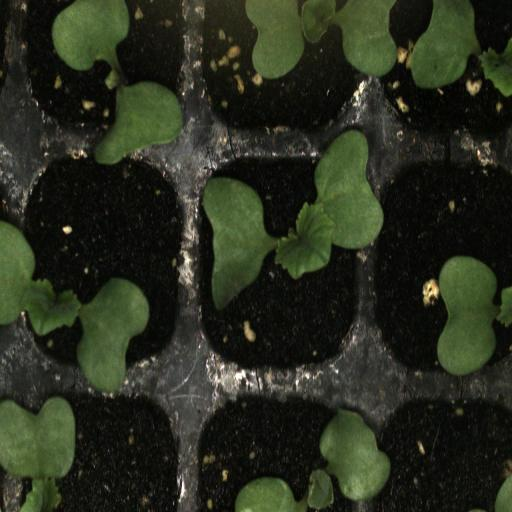seedling: (10, 143, 191, 385), (191, 140, 367, 380), (192, 0, 370, 141), (14, 0, 191, 138), (193, 381, 366, 512), (371, 0, 512, 135)
